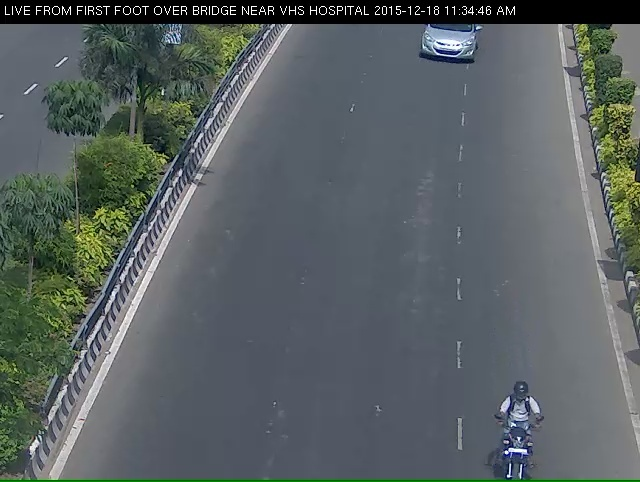Car: (419, 19, 495, 79)
Person: (487, 402, 549, 481)
